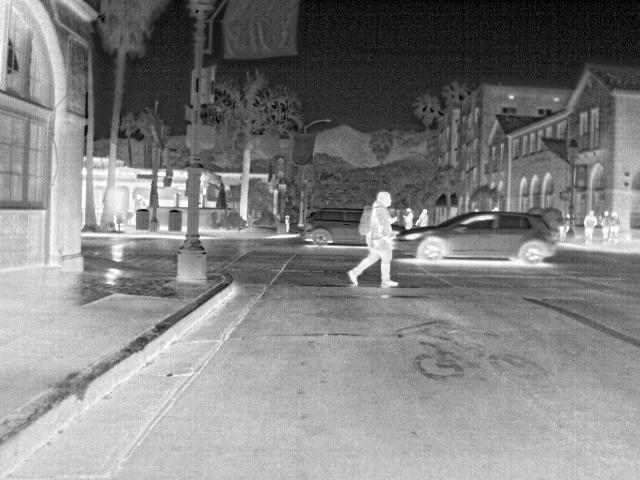car: (395, 214, 557, 260), (302, 208, 367, 246)
person: (347, 191, 399, 289), (581, 209, 598, 244), (399, 205, 417, 231), (599, 210, 613, 243), (610, 209, 623, 243), (415, 207, 431, 230)
